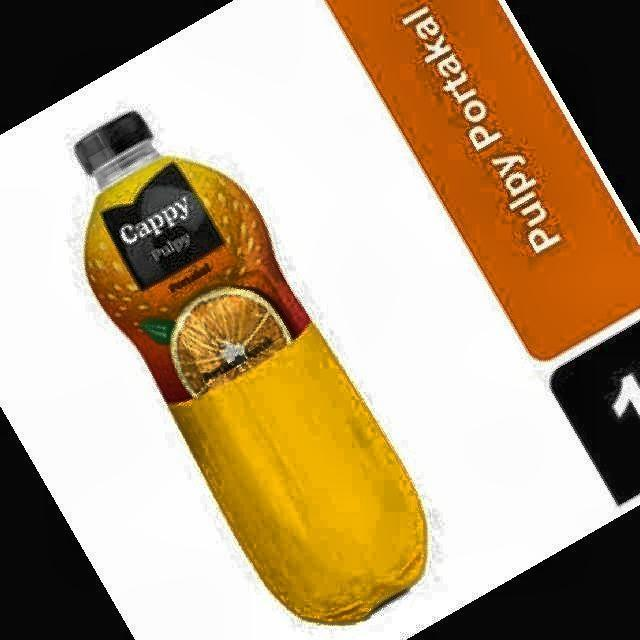plastic: (76, 112, 426, 622)
